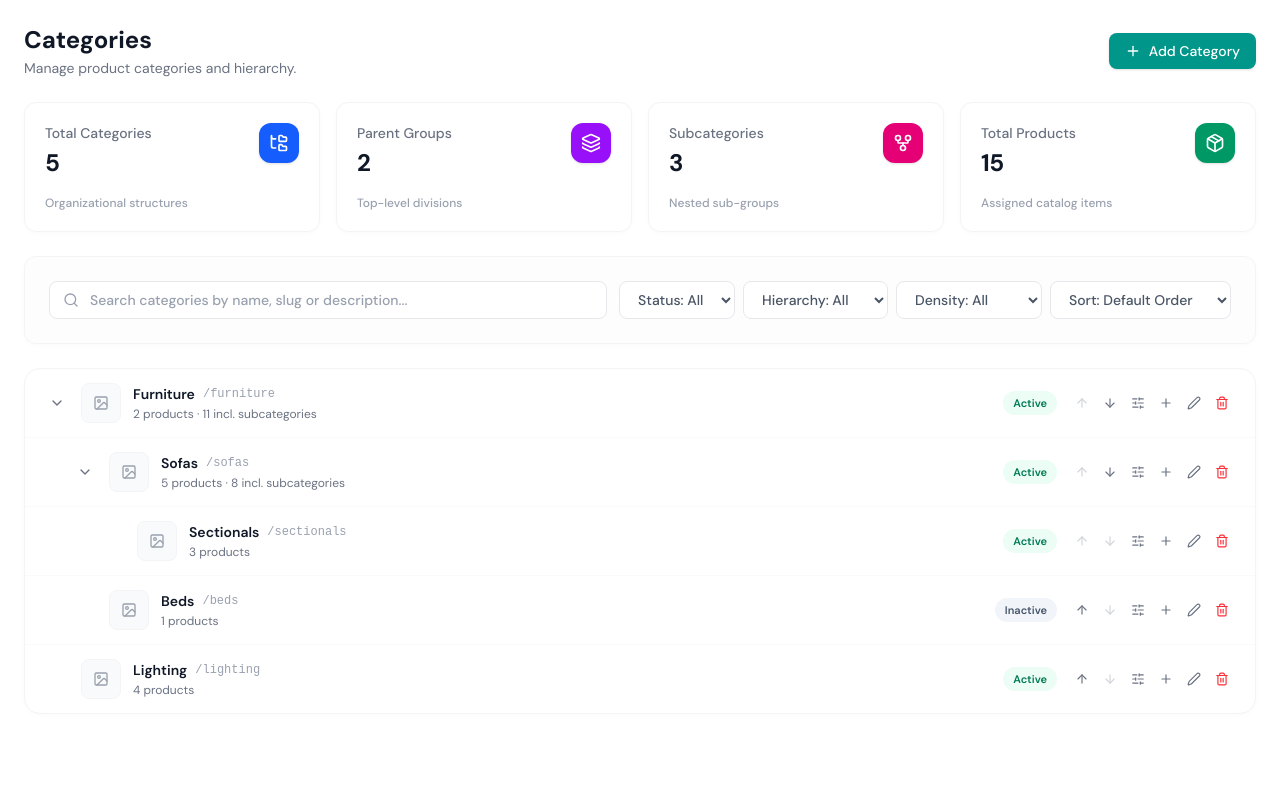
Categories admin — tree view (Phase 6) › collapses and expands a subtree
Click the button named "Collapse Furniture" at (57, 403), box [45,391,69,415]
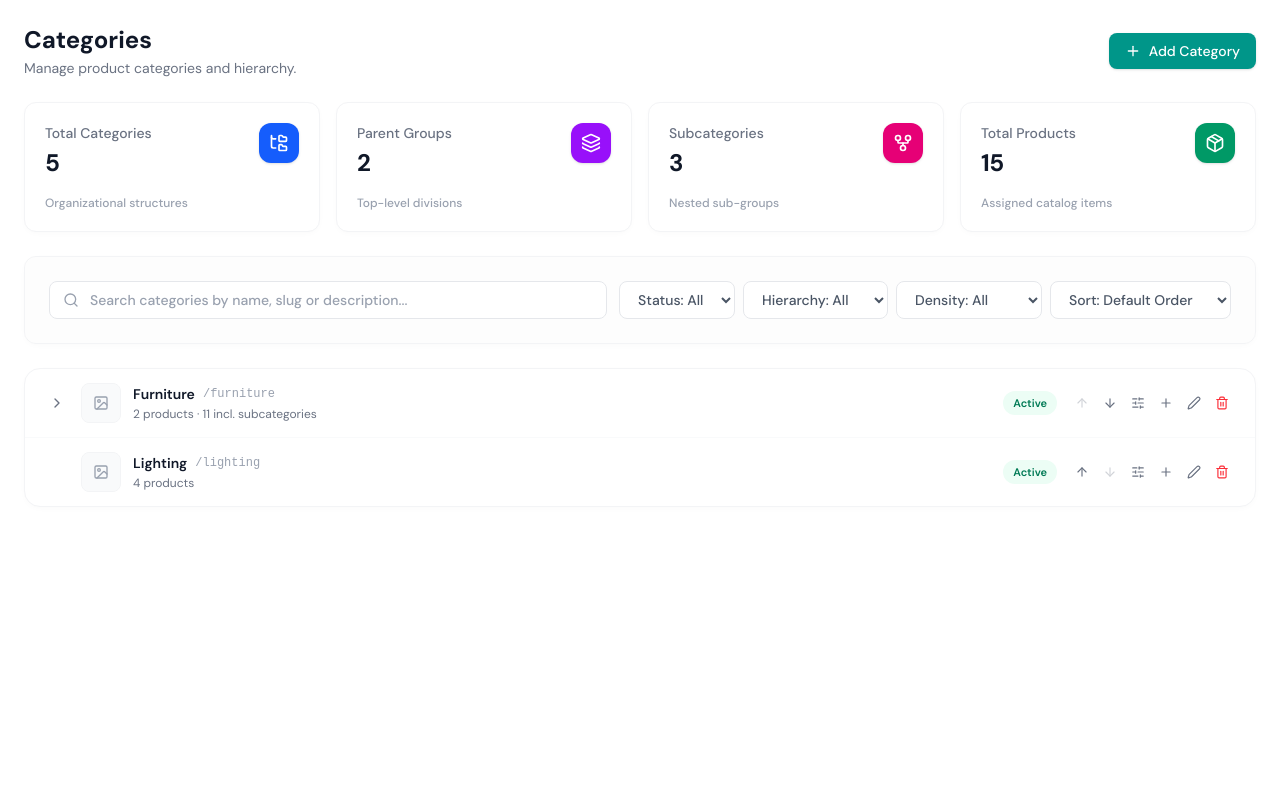
Expected: the element with test id "category-row-lighting" is shown, [81,452,1235,492]
Expected: the element with test id "category-row-sofas" is gone
Expected: the element with test id "category-row-sectionals" is gone
Click the button named "Expand Furniture" at (57, 403), box [45,391,69,415]
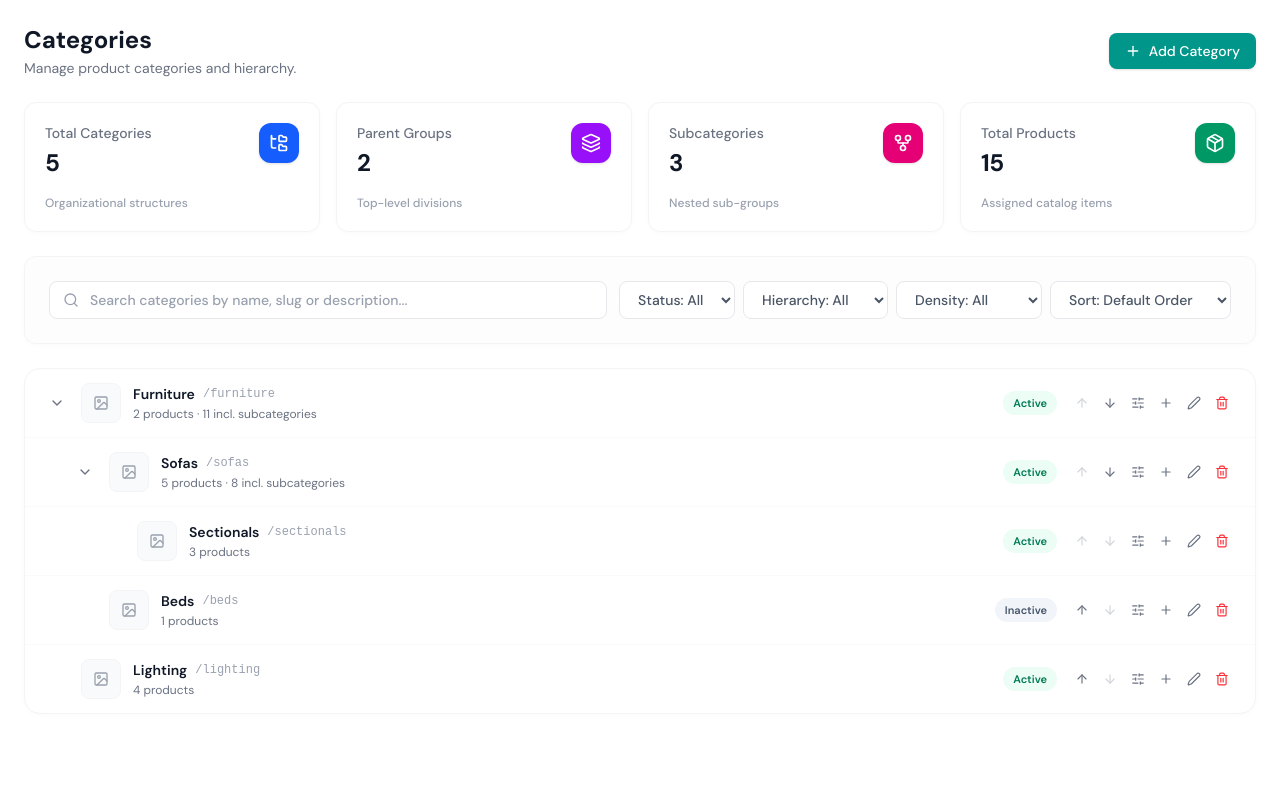
Expected: the element with test id "category-row-sofas" is shown, [25,438,1255,507]
